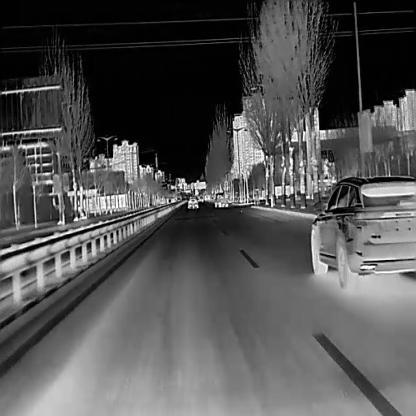car: (309, 174, 415, 288), (214, 191, 227, 206), (187, 195, 198, 208)
